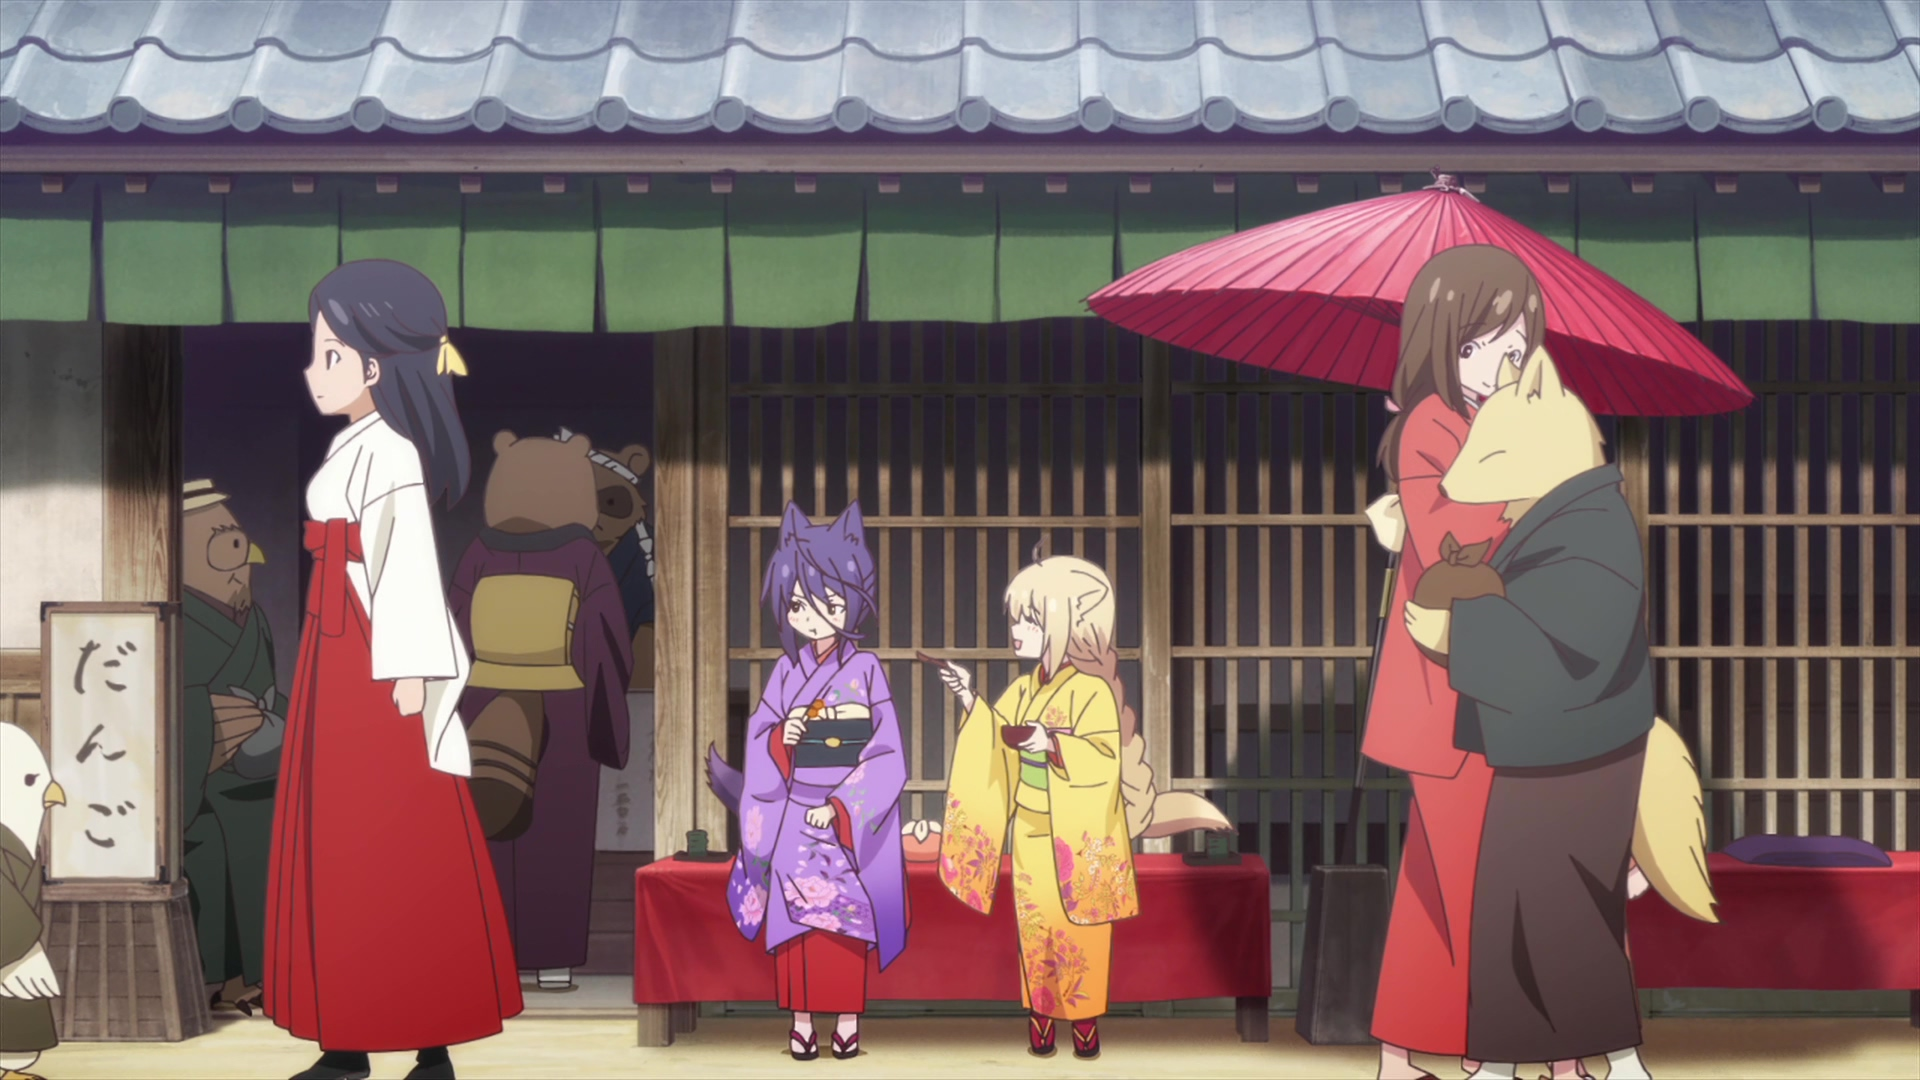其他: (1406, 343, 1717, 1080), (260, 257, 522, 1080), (1364, 245, 1548, 1080), (455, 429, 630, 994), (182, 473, 289, 1009), (1, 719, 66, 1080), (574, 433, 655, 690)
柚: (938, 543, 1237, 1056)
皋: (708, 502, 911, 1058)
